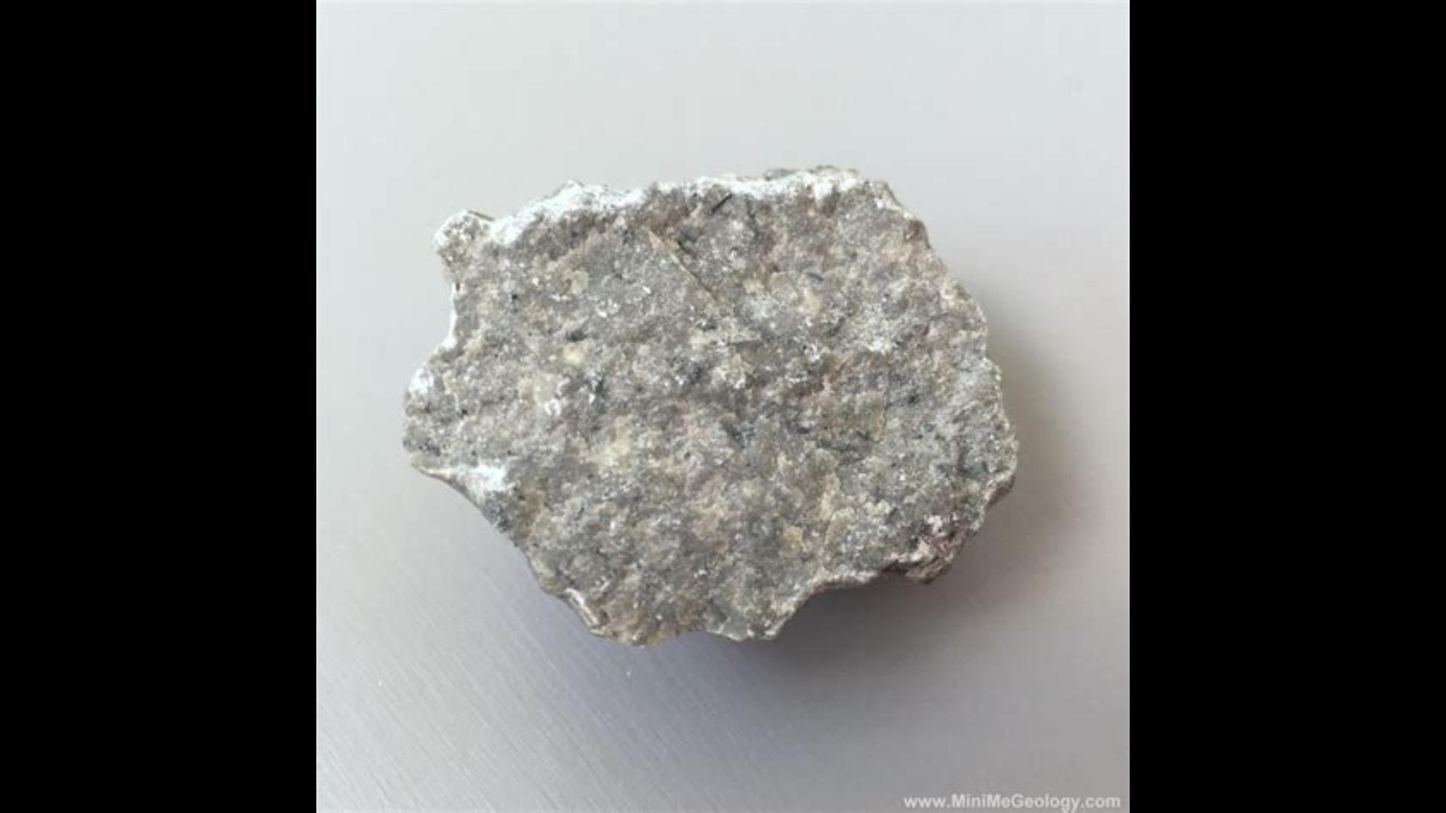rock: (406, 166, 1015, 640)
